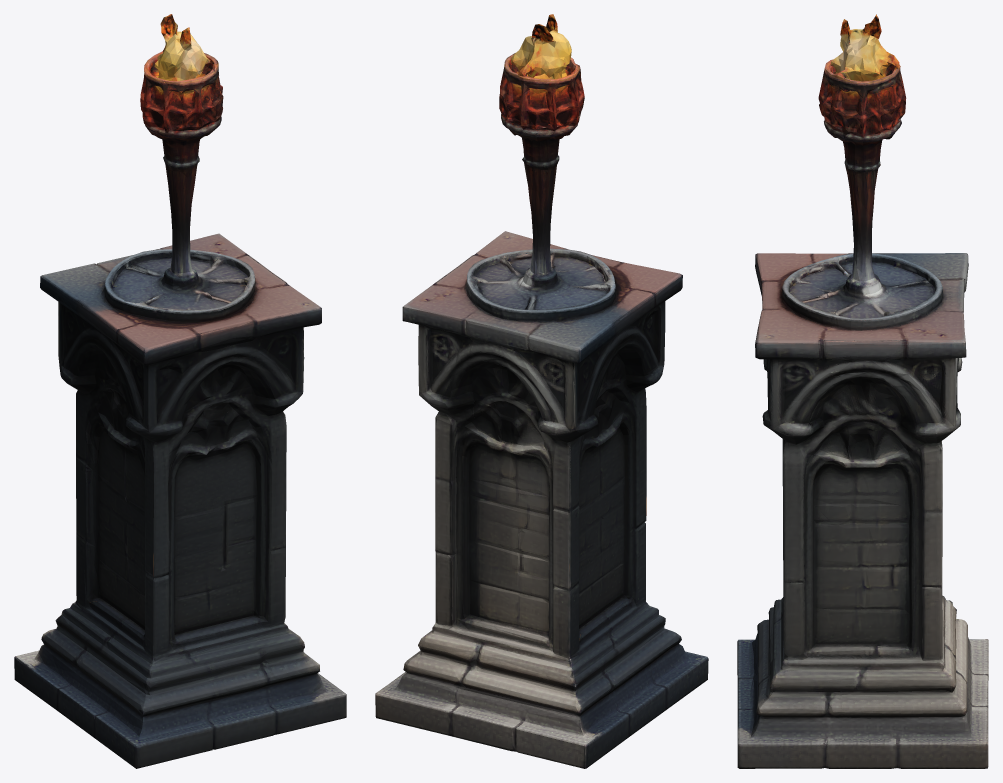
File: torch_stone_pedestal.glb
The picture shows the model from 3 angles, left to right: view 1: azimuth 30°, elevation 25°; view 2: azimuth 150°, elevation 25°; view 3: azimuth 270°, elevation 25°; orthographic projection. The views are drawn at different scales.
Parts seen in each view (by area): view 1: world; view 2: world; view 3: world.
Boxes of the visible parts, x1,y1,x2,y2 form: world: (14,14,346,768); world: (375,14,708,768); world: (737,14,988,768).
Size of the model in its own units: 0.3261 by 1 by 0.3269.
1 material, 1 textured.
